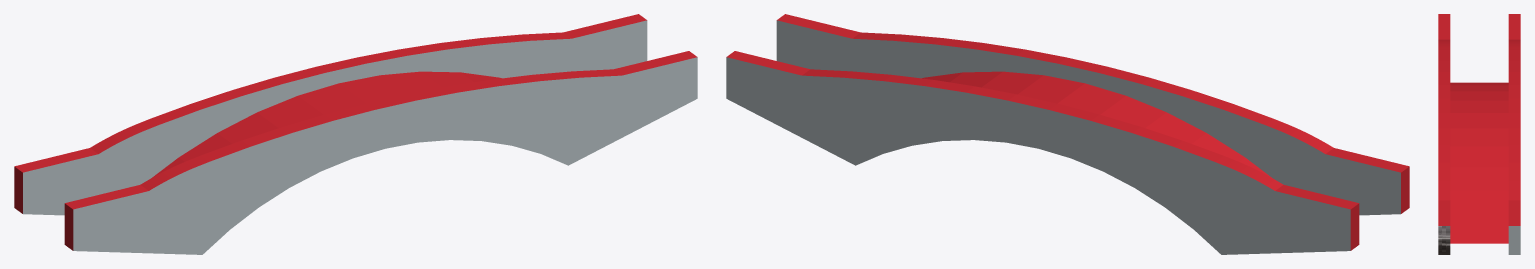
3 renders of one model, left to right at view 1: azimuth 30°, elevation 25°; view 2: azimuth 150°, elevation 25°; view 3: azimuth 270°, elevation 25°, orthographic. The views are drawn at different scales.
Parts seen in each view (by area): view 1: C-skp3897; view 2: C-skp3897; view 3: C-skp3897.
Boxes of the visible parts, box(x1,y1,x2,y2) form: C-skp3897: box(14, 14, 697, 254); C-skp3897: box(726, 14, 1409, 254); C-skp3897: box(1438, 14, 1520, 254).
Bounding box in the file's own units: 8.81 × 1.39 × 1.44.
Materials: 3 (1 with a texture image).
